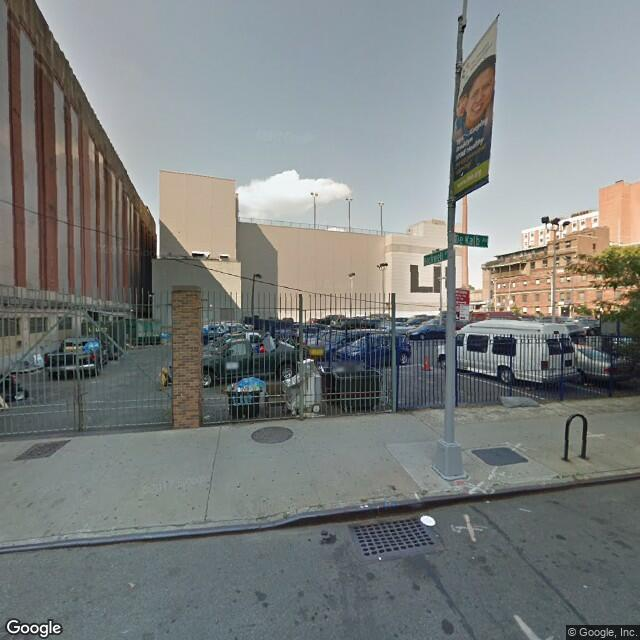litter: (418, 510, 438, 532)
